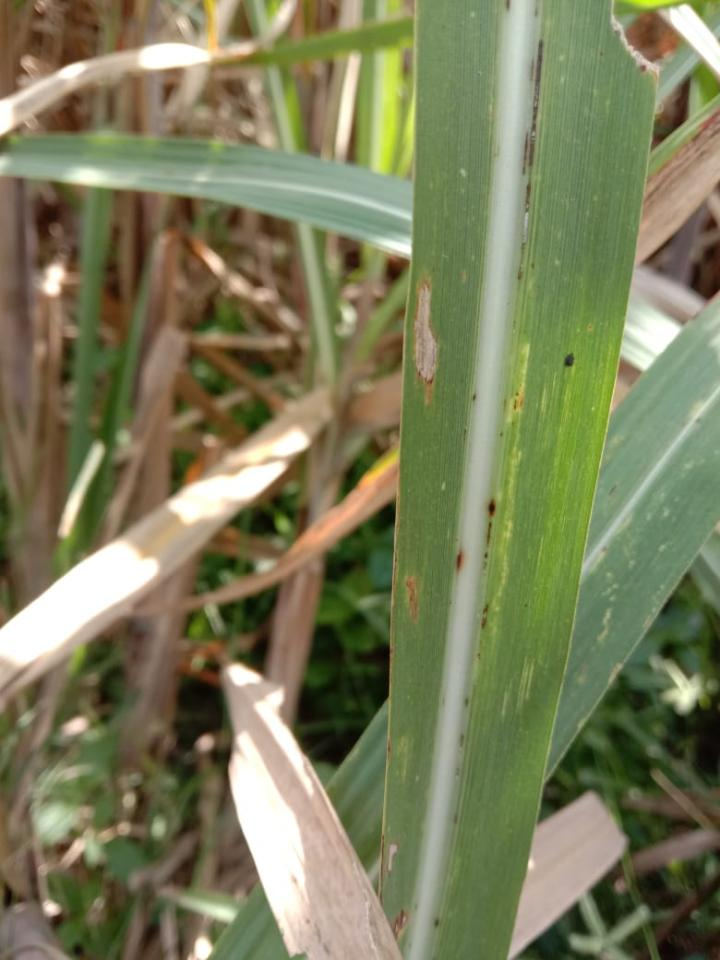RedRot: (456, 548, 462, 572), (487, 499, 495, 517)
Rust: (528, 39, 543, 166), (518, 182, 531, 281), (404, 576, 418, 623), (378, 830, 386, 906), (390, 908, 408, 940), (513, 382, 523, 413), (522, 132, 529, 176), (393, 549, 399, 591), (458, 731, 466, 749), (529, 56, 534, 82), (385, 735, 390, 761), (487, 521, 492, 545), (391, 632, 394, 667), (433, 915, 441, 928), (452, 810, 458, 825), (481, 616, 487, 629), (505, 0, 511, 13), (483, 604, 489, 614), (504, 397, 508, 412), (472, 390, 476, 403), (464, 697, 469, 707), (498, 431, 505, 437), (476, 653, 481, 661), (455, 767, 459, 777), (463, 426, 467, 436), (511, 421, 517, 427), (483, 551, 488, 558), (413, 902, 418, 909), (533, 10, 538, 17), (531, 262, 535, 269)
